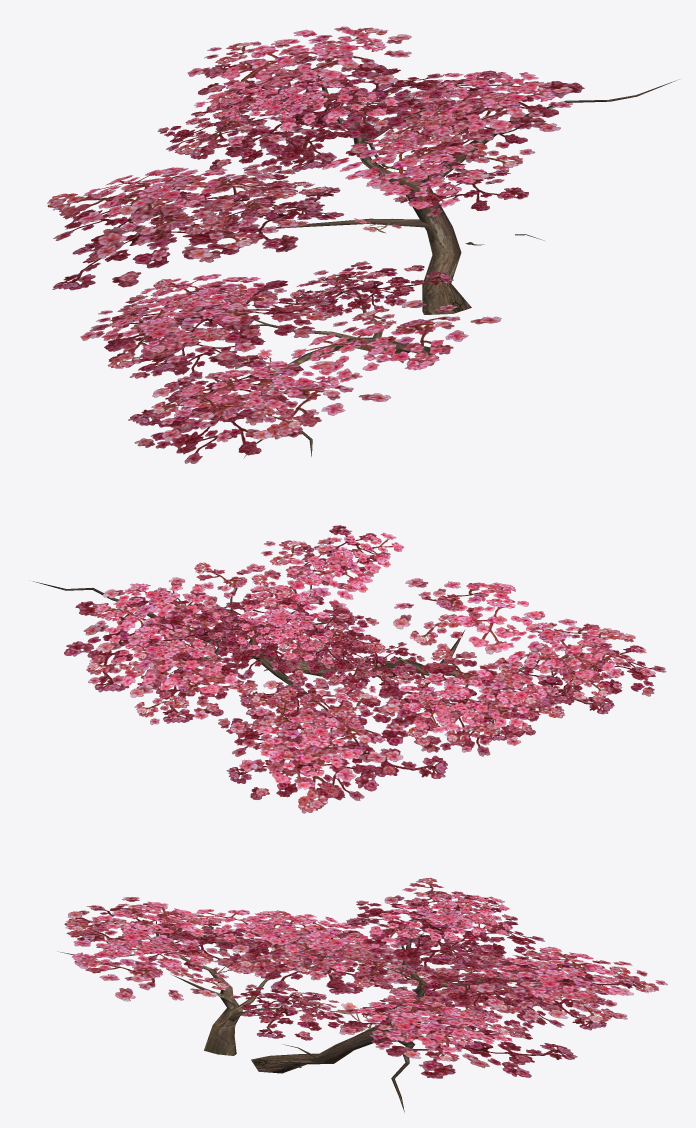
Rendered from S_Tree_Red002_H3.FBX.
The picture shows the model from 3 angles, top to bottom: view 1: azimuth 30°, elevation 25°; view 2: azimuth 150°, elevation 25°; view 3: azimuth 270°, elevation 25°; orthographic projection. The views are drawn at different scales.
Parts seen in each view (by area): view 1: S_Tree_Red002_H3_2, S_Tree_Red002_H3_1; view 2: S_Tree_Red002_H3_2, S_Tree_Red002_H3_1; view 3: S_Tree_Red002_H3_2, S_Tree_Red002_H3_1.
Part boxes in pixels (x1,y1,x2,y2): S_Tree_Red002_H3_2: (47,26,584,463); S_Tree_Red002_H3_1: (221,76,678,457); S_Tree_Red002_H3_2: (64,525,666,813); S_Tree_Red002_H3_1: (33,568,627,709); S_Tree_Red002_H3_2: (64,877,667,1078); S_Tree_Red002_H3_1: (57,921,551,1112).
Size of the model in its own units: 622 by 141 by 565.
Materials: 2 (2 with a texture image).
